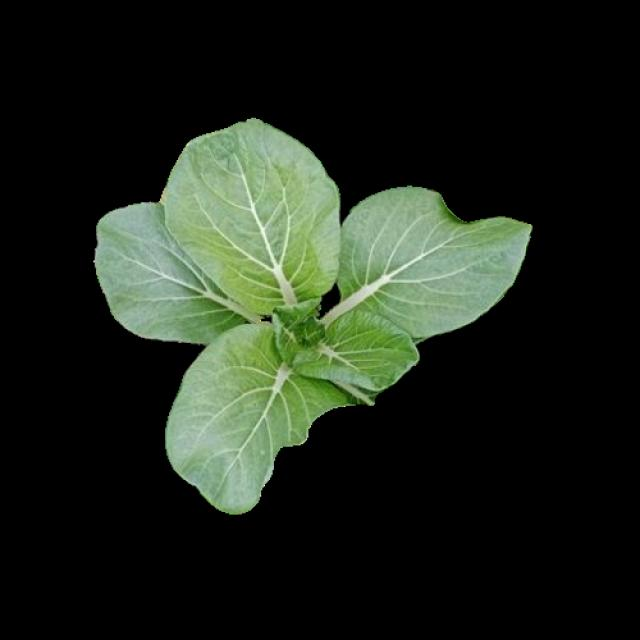mature: (96, 124, 532, 516)
unhealthy: (163, 323, 357, 512)
